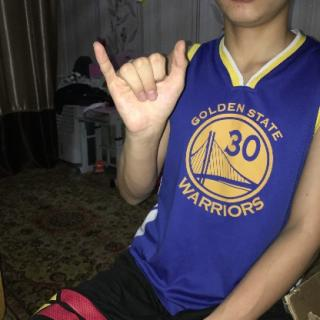YA: (91, 36, 189, 134)
